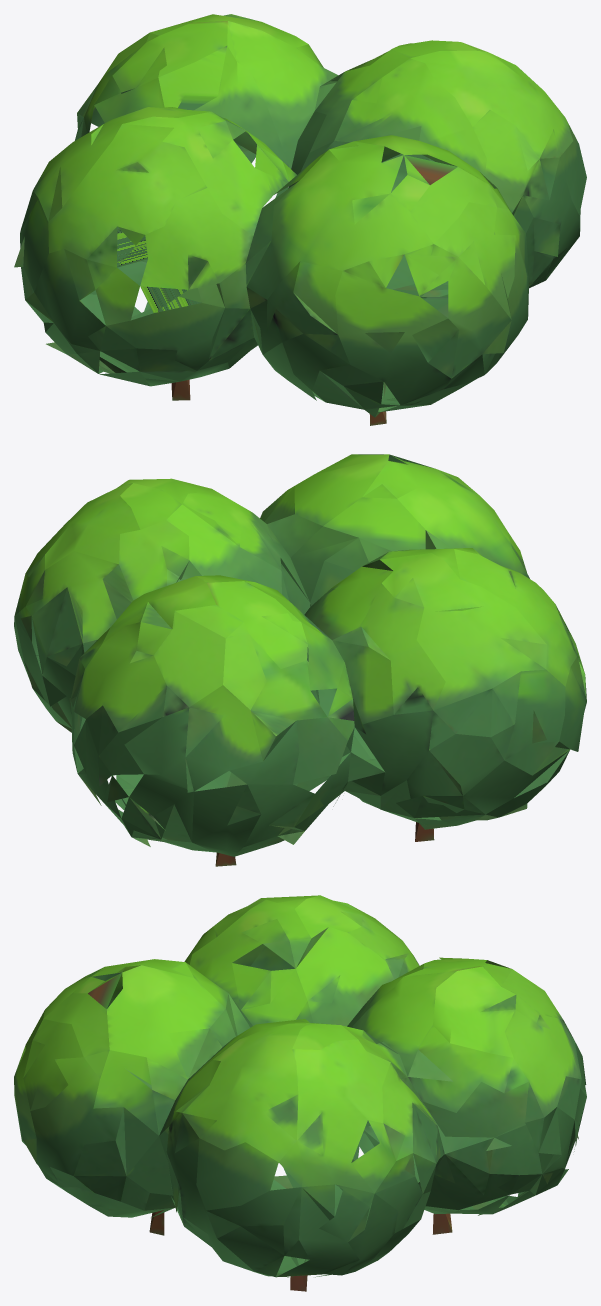
The model's file is bush-cluster.glb.
3 renders of one model, top to bottom at view 1: azimuth 30°, elevation 25°; view 2: azimuth 150°, elevation 25°; view 3: azimuth 270°, elevation 25°, orthographic. The views are drawn at different scales.
Bounding box in the file's own units: 1.84 × 0.9473 × 1.84.
Materials: 1 (1 with a texture image).
